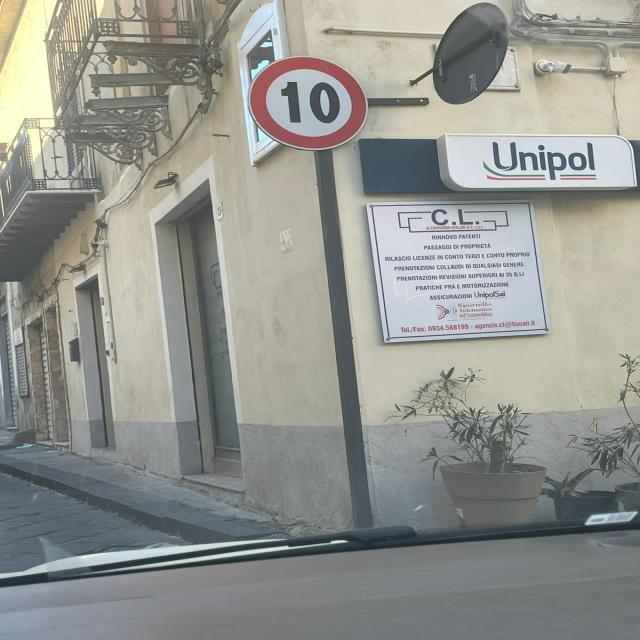forb_speed_over_10: (244, 55, 371, 151)
